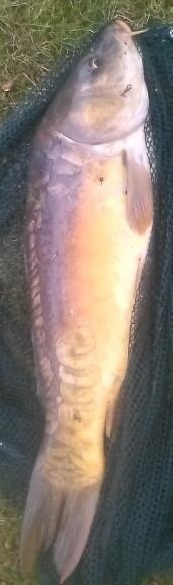Cyprinus carpio: (20, 20, 153, 583)
